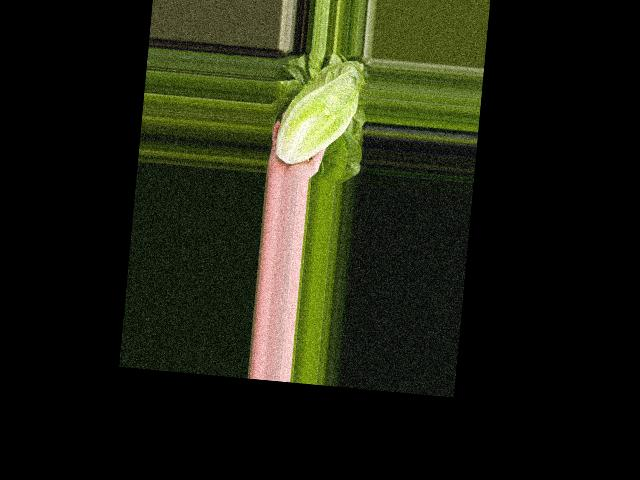lettuce: (270, 55, 364, 173)
